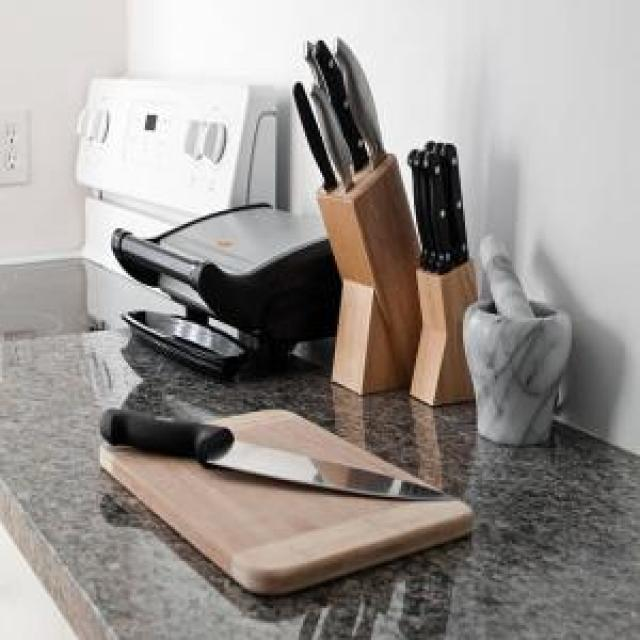knife: (98, 405, 453, 506)
